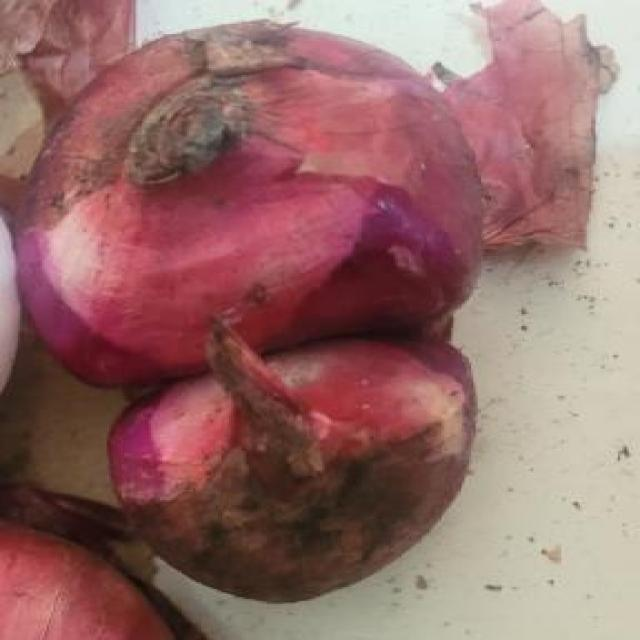Onion: (10, 24, 499, 599)
